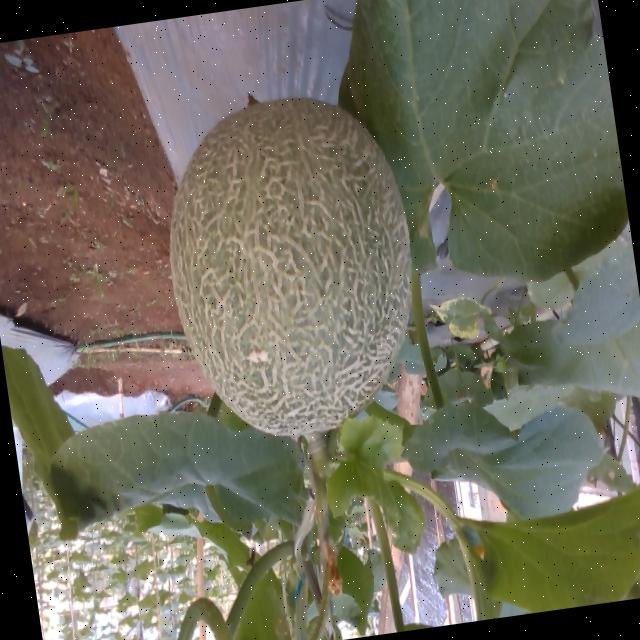melon: (168, 96, 410, 435)
